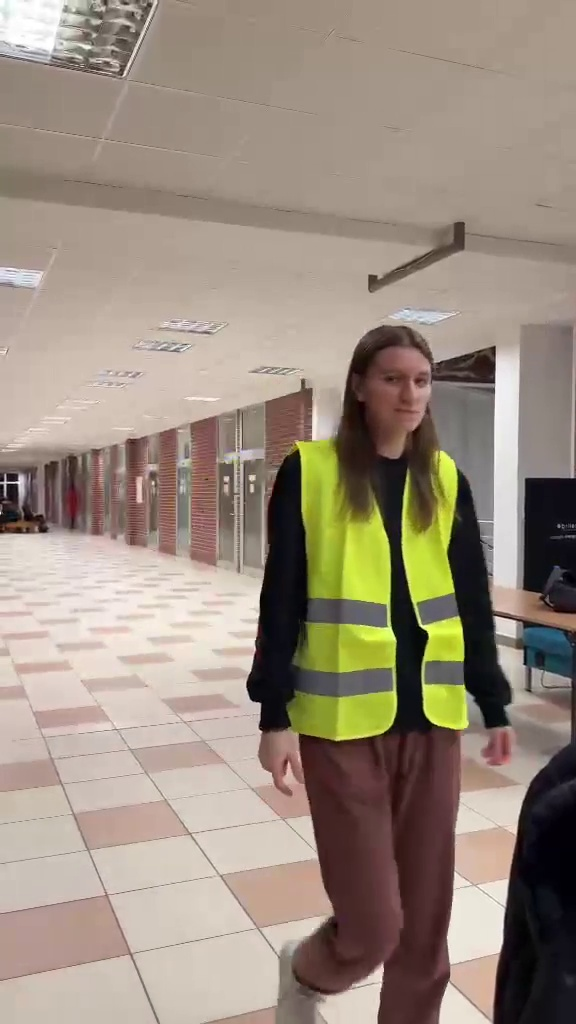vest: (253, 329, 515, 999)
